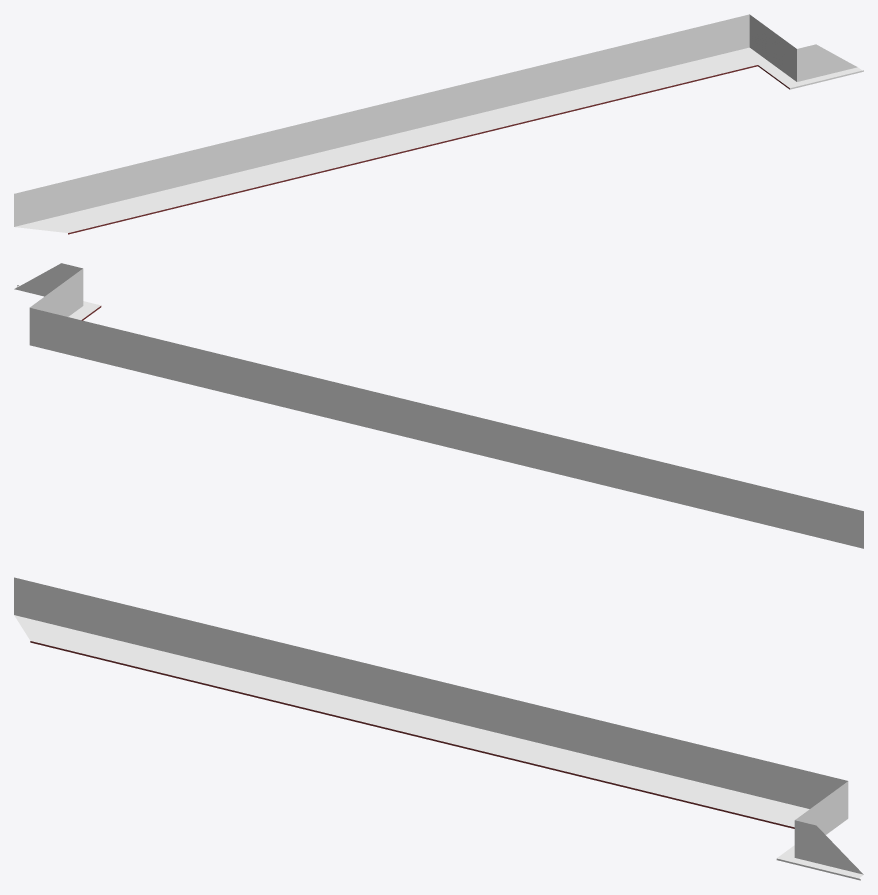
File: ParkingLotSideWalkB.fbx
The picture shows the model from 3 angles, top to bottom: view 1: azimuth 30°, elevation 25°; view 2: azimuth 150°, elevation 25°; view 3: azimuth 330°, elevation 25°; orthographic projection. The views are drawn at different scales.
Parts seen in each view (by area): view 1: ParkingLotSideWalkB; view 2: ParkingLotSideWalkB; view 3: ParkingLotSideWalkB.
Boxes of the visible parts, x1,y1,x2,y2 form: ParkingLotSideWalkB: (14,14,863,234); ParkingLotSideWalkB: (14,263,863,548); ParkingLotSideWalkB: (14,577,863,880).
Bounding box in the file's own units: 7478 × 310 × 841.
1 material, 1 textured.
